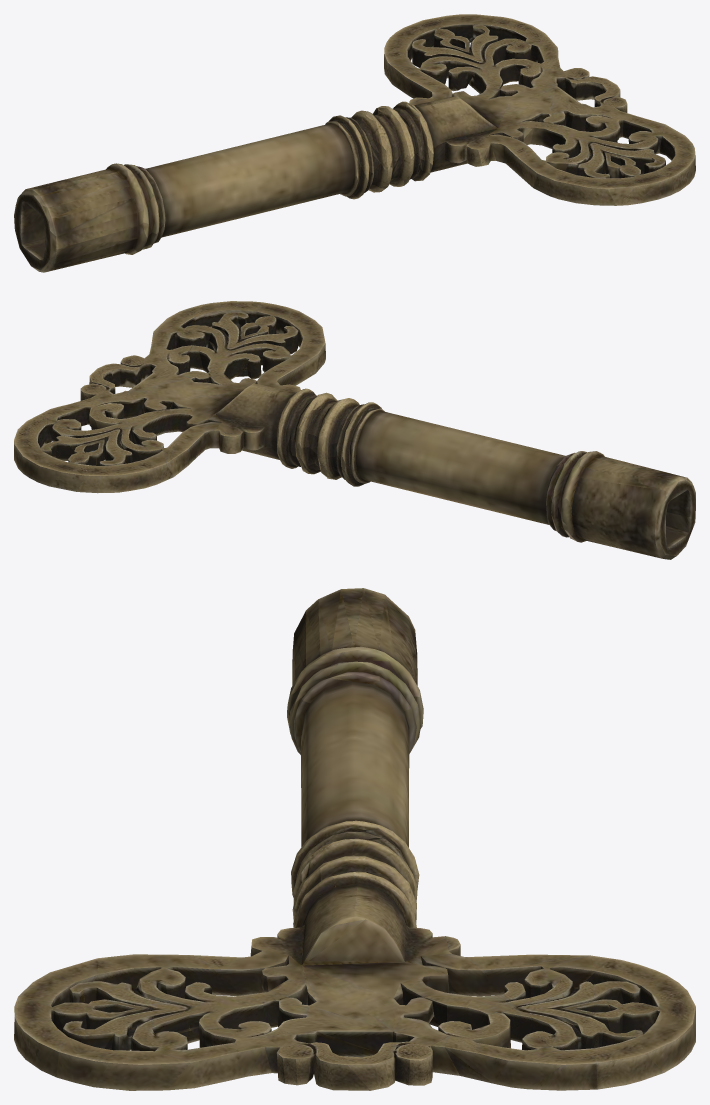
The model's file is clock_key.glb.
3 renders of one model, top to bottom at view 1: azimuth 30°, elevation 25°; view 2: azimuth 150°, elevation 25°; view 3: azimuth 270°, elevation 25°, orthographic. The views are drawn at different scales.
Visible parts, largest first — view 1: Mesh_0; view 2: Mesh_0; view 3: Mesh_0.
Part boxes in pixels (x1=…): Mesh_0: x1=14, y1=14, x2=695, y2=272; Mesh_0: x1=14, y1=301, x2=695, y2=559; Mesh_0: x1=14, y1=588, x2=695, y2=1090.
Size of the model in its own units: 1.9 by 0.2614 by 1.27.
Materials: 1 (1 with a texture image).
